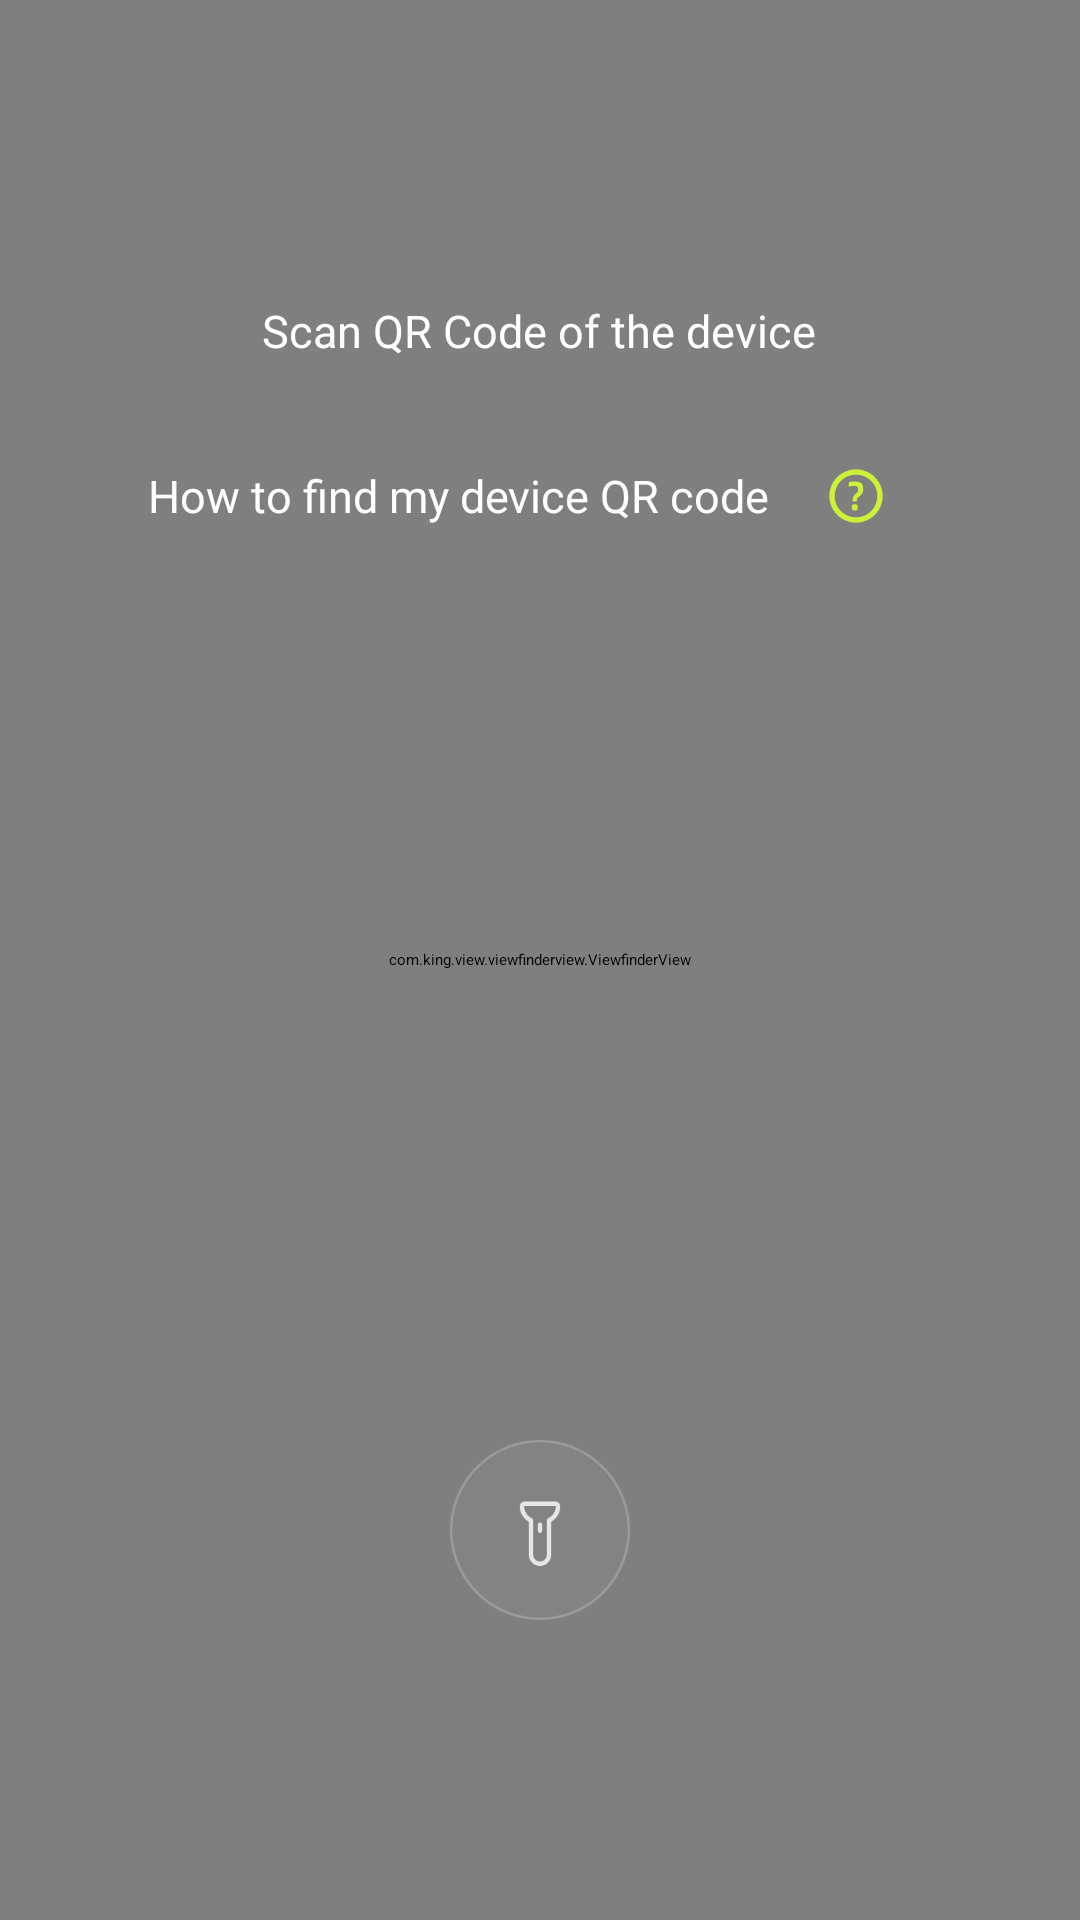

Named icons in this screenshot (1080×1920) and their bounding boxes, (x1, y1, x2, y2):
Go to scan explanations: (829, 469, 883, 523)
Toggle flashlight on and off: (450, 1440, 630, 1620)
